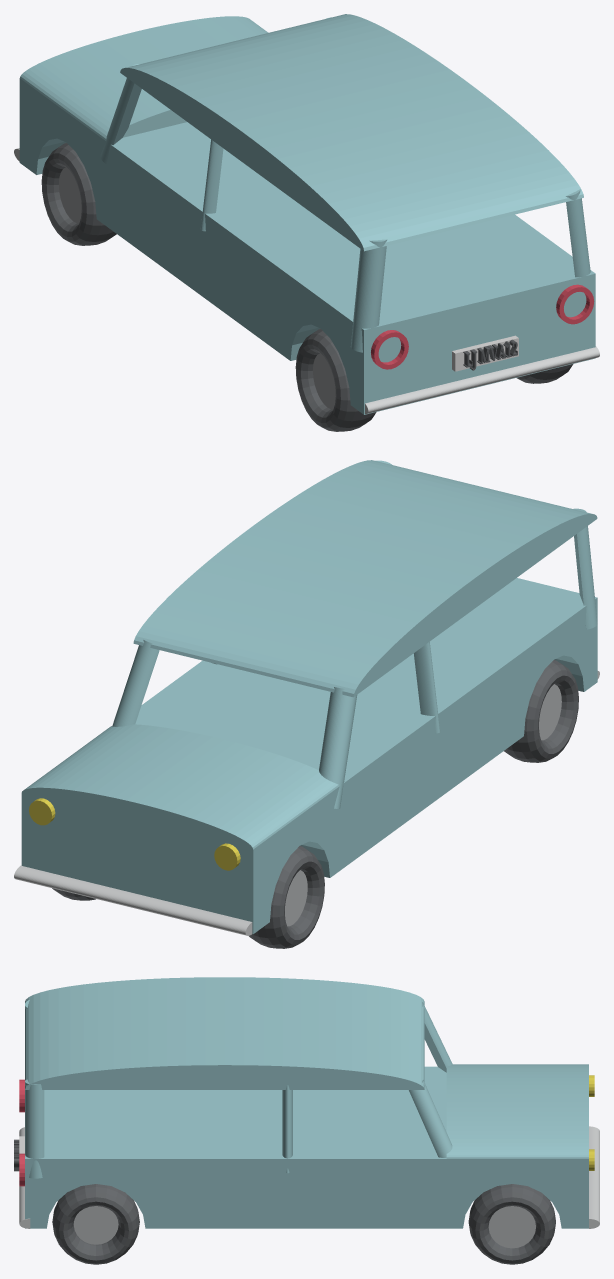
File: Avto.glb
3 views of the same model, one above another, from view 1: azimuth 30°, elevation 25°; view 2: azimuth 150°, elevation 25°; view 3: azimuth 270°, elevation 25° (orthographic). The views are drawn at different scales.
Parts seen in each view (by area): view 1: Mesh_Mesh_head_geo.001_lambert2SG.001; view 2: Mesh_Mesh_head_geo.001_lambert2SG.001; view 3: Mesh_Mesh_head_geo.001_lambert2SG.001.
Part boxes in pixels (x1,y1,x2,y2): Mesh_Mesh_head_geo.001_lambert2SG.001: (14, 14, 599, 431); Mesh_Mesh_head_geo.001_lambert2SG.001: (14, 460, 599, 948); Mesh_Mesh_head_geo.001_lambert2SG.001: (14, 977, 599, 1264).
Bounding box in the file's own units: 42 × 40 × 107.
